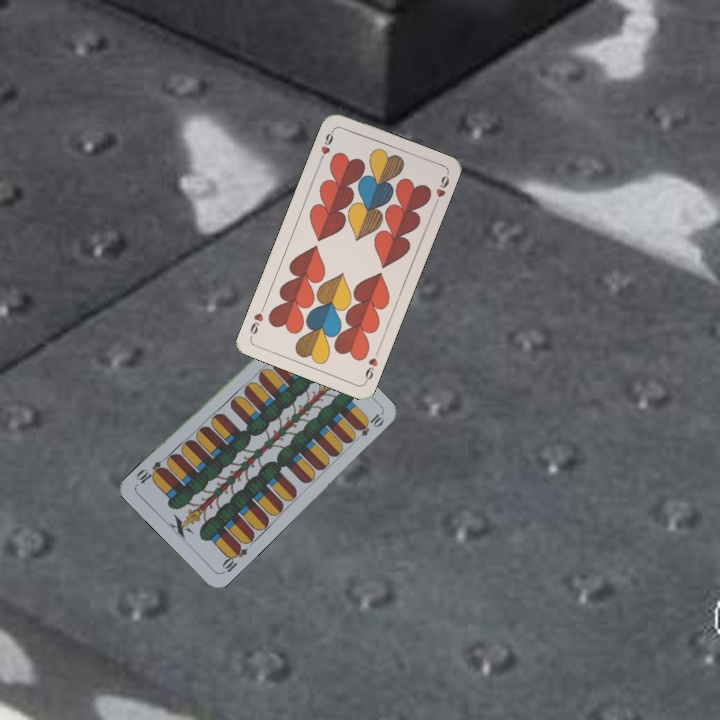E10: (218, 540, 250, 576)
H9: (315, 126, 337, 165), (361, 346, 382, 385)
